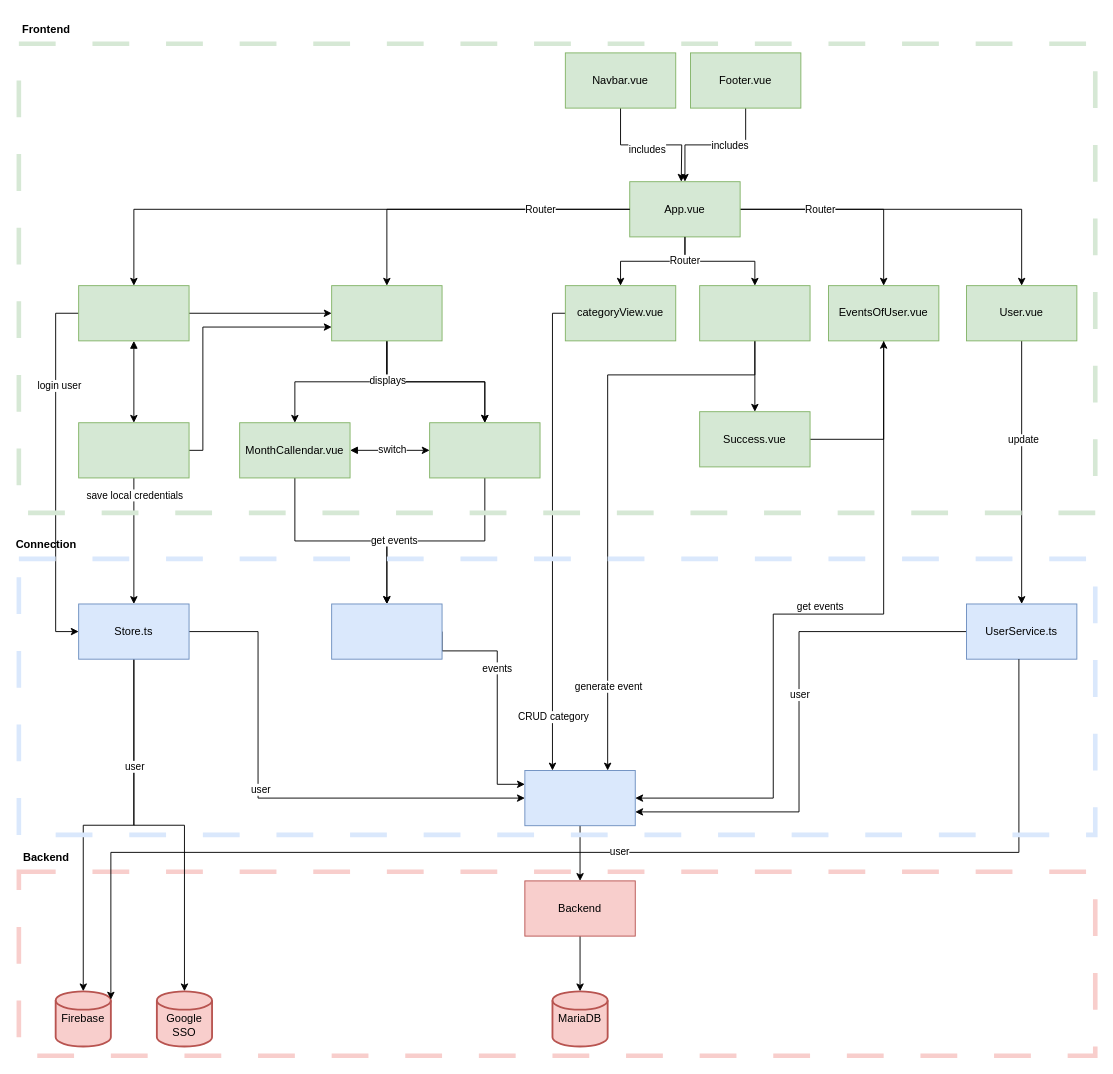
The diagram is 1113 pixels wide and 1074 high, and some of its shapes have lost their labels. The centre of each missing label's shape, as x and y in pixels:
CallendarService.ts: point (386, 631)
DbConnector.ts: point (579, 798)
Home.vue: point (386, 313)
Login.vue: point (133, 313)
NewEvent.vue: point (754, 313)
SignUp.vue: point (133, 450)
YearCallendar.vue: point (484, 450)
